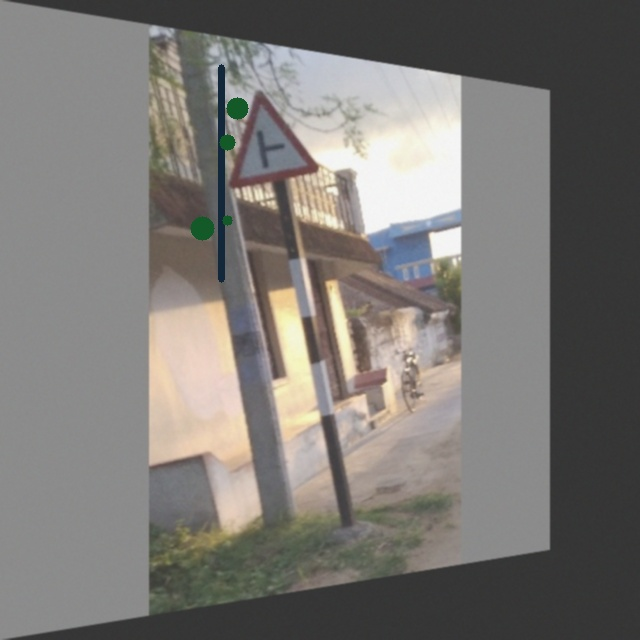Side_Road_Right: (228, 78, 321, 193)
